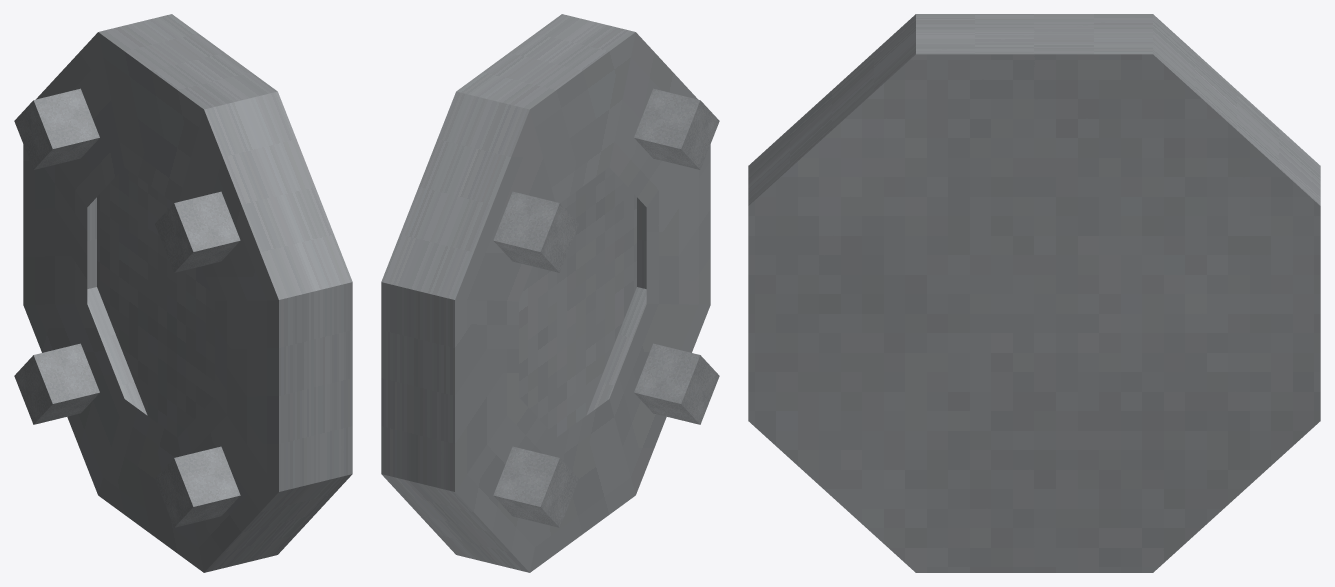
File: port_east.obj
3 views of the same model, side by side, from view 1: azimuth 30°, elevation 25°; view 2: azimuth 150°, elevation 25°; view 3: azimuth 270°, elevation 25° (orthographic). The views are drawn at different scales.
Size of the model in its own units: 0.1538 by 0.5625 by 0.5625.
